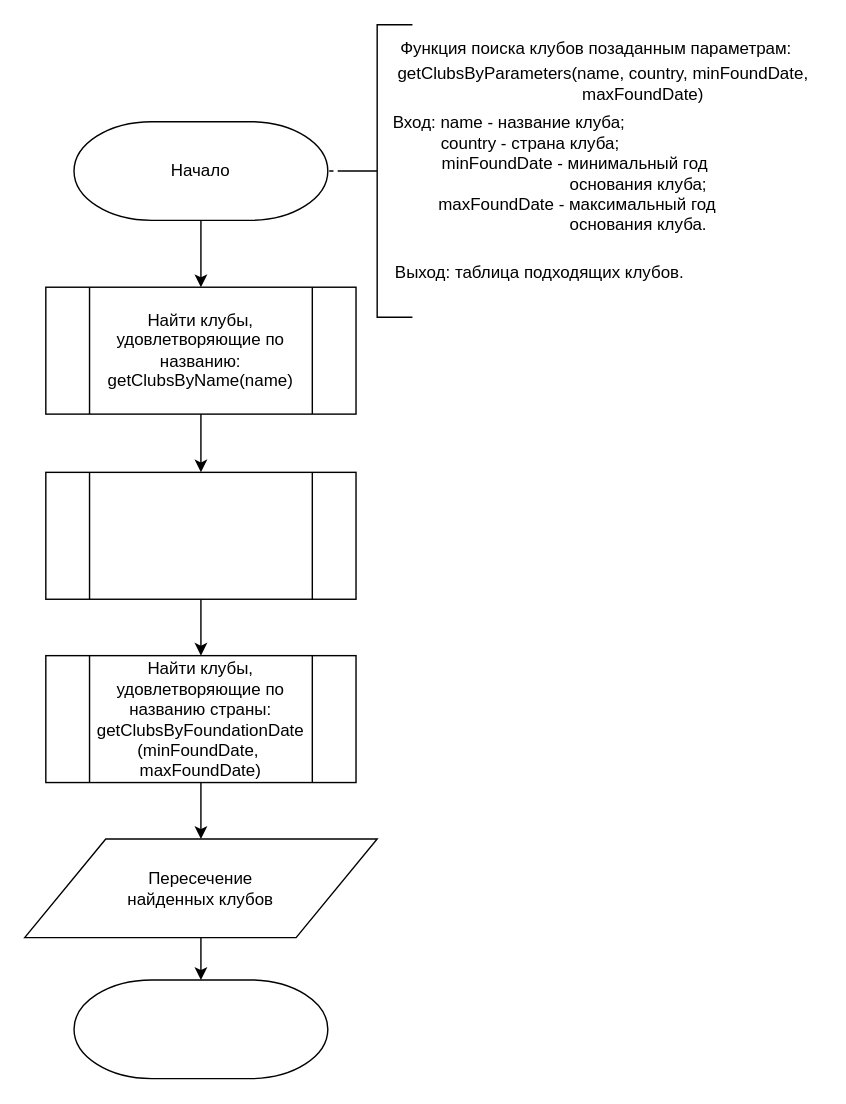
Some shapes in this 846 by 1104 pixel diagram are drawn without their labels. The shapes that lost their labels are listed below. From the top down, each one's centre as x and y in pixels, then its label:
At point (200, 535): "Найти клубы, удовлетворяющие по названию страны: getClubsByCountry(country)".
At point (200, 1029): "Конец".
